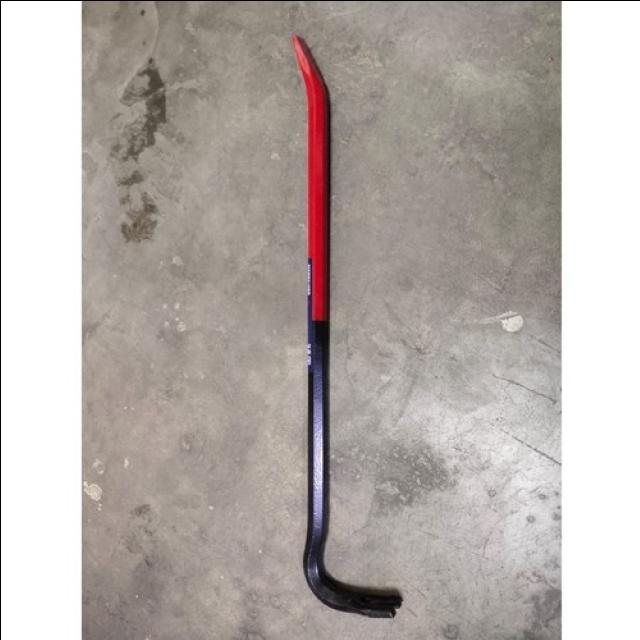Linggis: (297, 47, 405, 619)
